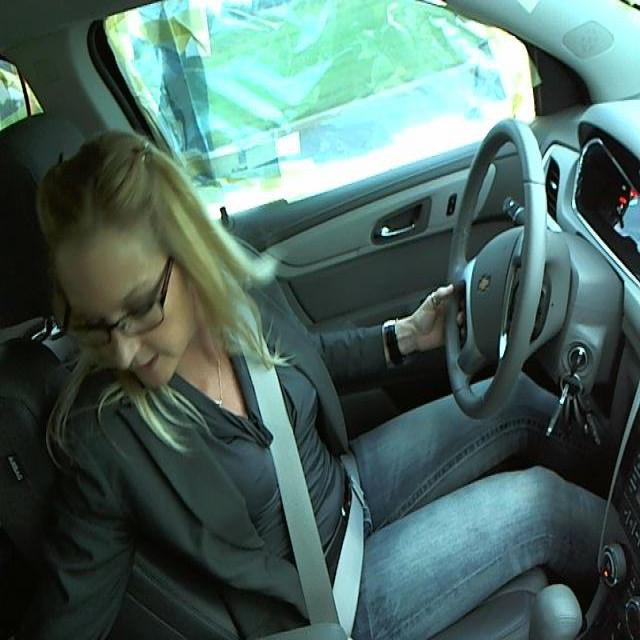seatbelt: (214, 310, 373, 622)
